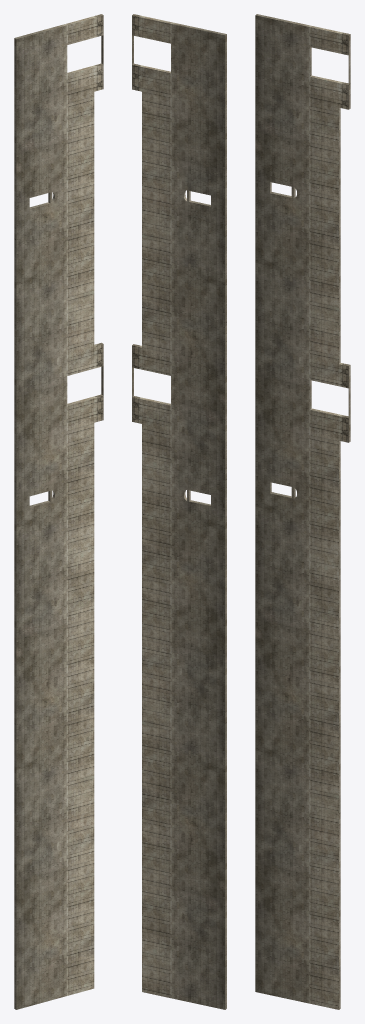
File: walls_and_columns_8.fbx
3 views of the same model, side by side, from view 1: azimuth 30°, elevation 25°; view 2: azimuth 150°, elevation 25°; view 3: azimuth 330°, elevation 25° (orthographic).
Visible parts, largest first — view 1: walls_and_columns_8; view 2: walls_and_columns_8; view 3: walls_and_columns_8.
Boxes of the visible parts, x1,y1,x2,y2 form: walls_and_columns_8: [14, 14, 103, 1009]; walls_and_columns_8: [132, 14, 226, 1009]; walls_and_columns_8: [255, 14, 350, 1009].
Size of the model in its own units: 900 by 9240 by 77.06.
